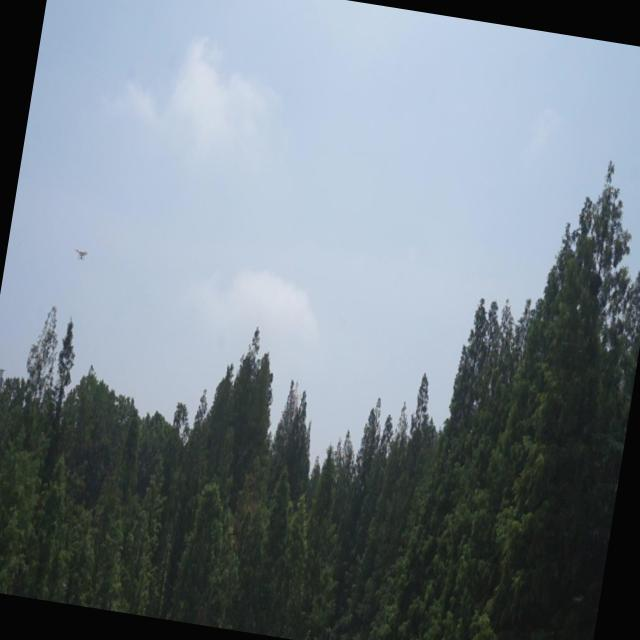drone: (72, 244, 93, 265)
